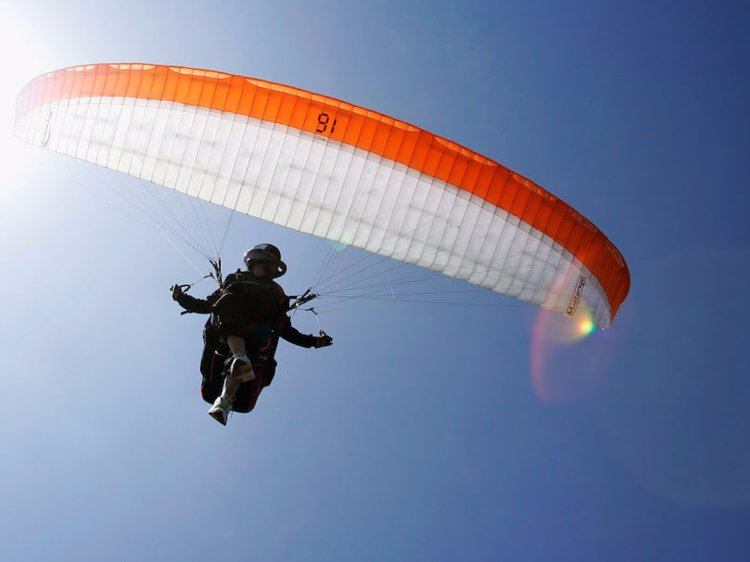Paraglider: (12, 63, 654, 235)
